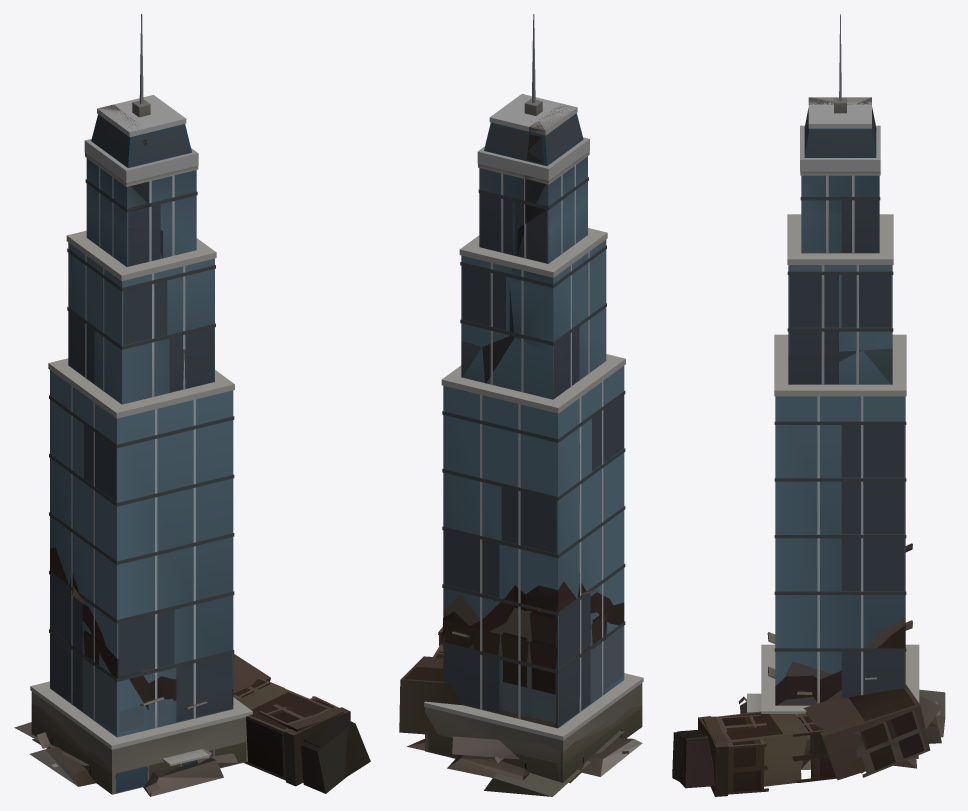
The model's file is bld_modern_skyscraper_fractured.glb.
3 renders of one model, left to right at view 1: azimuth 30°, elevation 25°; view 2: azimuth 150°, elevation 25°; view 3: azimuth 270°, elevation 25°, orthographic. The views are drawn at different scales.
Visible parts, largest first — view 1: bld_modern_skyscraper_DMG_mesh, bld_modern_skyscraper_FRAC_21_mesh, bld_modern_skyscraper_RUIN_LOD0_mesh, bld_modern_skyscraper_FRAC_18_mesh, bld_modern_skyscraper_RUIN_LOD1_mesh, bld_modern_skyscraper_FRAC_25_mesh, bld_modern_skyscraper_FRAC_13_mesh, bld_modern_skyscraper_FRAC_24_mesh, bld_modern_skyscraper_RUIN_LOD2_mesh, bld_modern_skyscraper_FRAC_11_mesh, bld_modern_skyscraper_FRAC_26_mesh, bld_modern_skyscraper_FRAC_27_mesh (+14 smaller); view 2: bld_modern_skyscraper_DMG_mesh, bld_modern_skyscraper_RUIN_LOD0_mesh, bld_modern_skyscraper_FRAC_23_mesh, bld_modern_skyscraper_FRAC_20_mesh, bld_modern_skyscraper_FRAC_24_mesh, bld_modern_skyscraper_RUIN_LOD1_mesh, bld_modern_skyscraper_FRAC_14_mesh, bld_modern_skyscraper_FRAC_25_mesh, bld_modern_skyscraper_FRAC_17_mesh, bld_modern_skyscraper_FRAC_01_mesh, bld_modern_skyscraper_RUIN_LOD2_mesh, bld_modern_skyscraper_FRAC_16_mesh (+15 smaller); view 3: bld_modern_skyscraper_RUIN_LOD0_mesh, bld_modern_skyscraper_FRAC_22_mesh, bld_modern_skyscraper_FRAC_24_mesh, bld_modern_skyscraper_FRAC_16_mesh, bld_modern_skyscraper_FRAC_19_mesh, bld_modern_skyscraper_RUIN_LOD1_mesh, bld_modern_skyscraper_FRAC_07_mesh, bld_modern_skyscraper_DMG_mesh, bld_modern_skyscraper_FRAC_12_mesh, bld_modern_skyscraper_RUIN_LOD2_mesh, bld_modern_skyscraper_FRAC_15_mesh, bld_modern_skyscraper_FRAC_11_mesh (+8 smaller).
Part boxes in pixels (box(x1,y1,x2,y2)): bld_modern_skyscraper_DMG_mesh: box(33, 104, 252, 794); bld_modern_skyscraper_FRAC_21_mesh: box(85, 344, 216, 463); bld_modern_skyscraper_RUIN_LOD0_mesh: box(14, 547, 370, 794); bld_modern_skyscraper_FRAC_18_mesh: box(85, 436, 230, 524); bld_modern_skyscraper_RUIN_LOD1_mesh: box(29, 653, 351, 796); bld_modern_skyscraper_FRAC_25_mesh: box(68, 258, 167, 365); bld_modern_skyscraper_FRAC_13_mesh: box(88, 499, 179, 595); bld_modern_skyscraper_FRAC_24_mesh: box(114, 14, 198, 231); bld_modern_skyscraper_RUIN_LOD2_mesh: box(32, 655, 331, 780); bld_modern_skyscraper_FRAC_11_mesh: box(163, 562, 234, 647); bld_modern_skyscraper_FRAC_26_mesh: box(66, 214, 171, 295); bld_modern_skyscraper_FRAC_27_mesh: box(84, 105, 150, 229); bld_modern_skyscraper_DMG_mesh: box(442, 104, 639, 780); bld_modern_skyscraper_RUIN_LOD0_mesh: box(409, 581, 642, 796); bld_modern_skyscraper_FRAC_23_mesh: box(472, 341, 594, 460); bld_modern_skyscraper_FRAC_20_mesh: box(482, 433, 598, 527); bld_modern_skyscraper_FRAC_24_mesh: box(477, 14, 560, 229); bld_modern_skyscraper_RUIN_LOD1_mesh: box(400, 594, 642, 783); bld_modern_skyscraper_FRAC_14_mesh: box(508, 491, 596, 584); bld_modern_skyscraper_FRAC_25_mesh: box(509, 253, 606, 354); bld_modern_skyscraper_FRAC_17_mesh: box(443, 487, 507, 573); bld_modern_skyscraper_FRAC_01_mesh: box(488, 692, 605, 781); bld_modern_skyscraper_RUIN_LOD2_mesh: box(399, 627, 623, 782); bld_modern_skyscraper_FRAC_16_mesh: box(460, 273, 509, 346); bld_modern_skyscraper_RUIN_LOD0_mesh: box(677, 543, 945, 796); bld_modern_skyscraper_FRAC_22_mesh: box(774, 350, 906, 443); bld_modern_skyscraper_FRAC_24_mesh: box(800, 14, 880, 214); bld_modern_skyscraper_FRAC_16_mesh: box(787, 277, 893, 354); bld_modern_skyscraper_FRAC_19_mesh: box(775, 438, 905, 518); bld_modern_skyscraper_RUIN_LOD1_mesh: box(672, 618, 941, 786); bld_modern_skyscraper_FRAC_07_mesh: box(787, 212, 893, 282); bld_modern_skyscraper_DMG_mesh: box(747, 97, 912, 758); bld_modern_skyscraper_FRAC_12_mesh: box(833, 556, 906, 631); bld_modern_skyscraper_RUIN_LOD2_mesh: box(716, 684, 916, 779); bld_modern_skyscraper_FRAC_15_mesh: box(775, 476, 842, 568); bld_modern_skyscraper_FRAC_11_mesh: box(774, 563, 833, 632).
Bounding box in the file's own units: 62.76 × 184 × 64.86.
